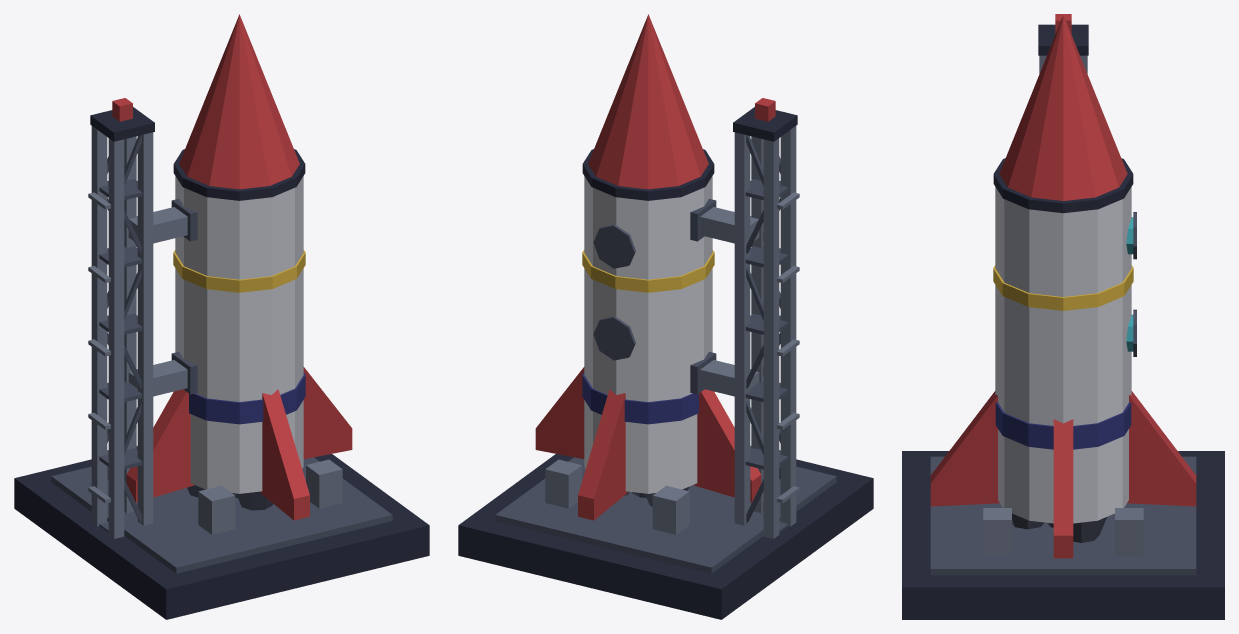
The model's file is Decor_Observatory_Rocket.fbx.
3 views of the same model, side by side, from view 1: azimuth 30°, elevation 25°; view 2: azimuth 150°, elevation 25°; view 3: azimuth 270°, elevation 25° (orthographic). The views are drawn at different scales.
Parts seen in each view (by area): view 1: Rocket_Body; view 2: Rocket_Body; view 3: Rocket_Body.
Boxes of the visible parts, bbox=[...] form: Rocket_Body: bbox=[14, 14, 429, 619]; Rocket_Body: bbox=[458, 14, 873, 619]; Rocket_Body: bbox=[902, 14, 1224, 619].
Size of the model in its own units: 9 by 16.8 by 9.
